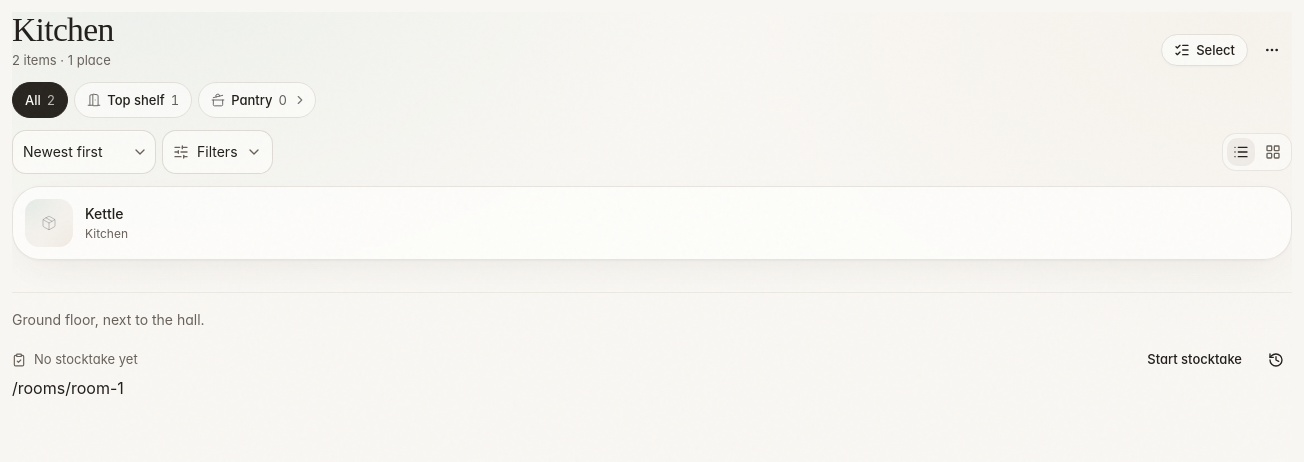
Test: RoomDetailPage › narrows the list with a place chip and offers that place's actions
The width and height of the screenshot is (1304, 462).
Click the button with aria-label "Top shelf, 1 item".
click(133, 100)  # box [74,82,192,118]
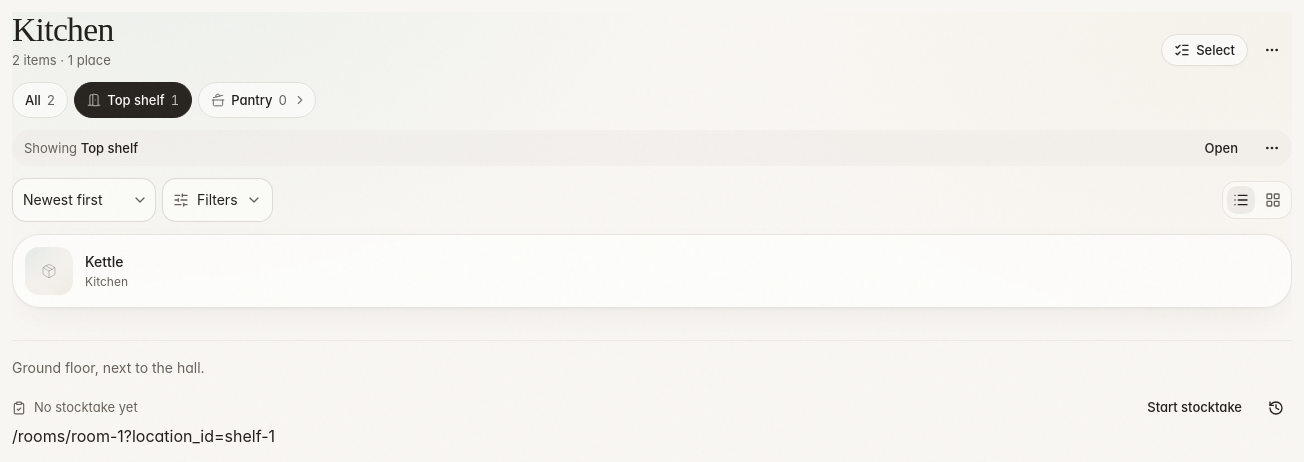
Check: the text with test id "location" reads "/rooms/room-1?location_id=shelf-1", box [12,426,275,446]
Click the button named "Options for Top shelf".
click(1272, 148)  # box [1256,132,1288,164]
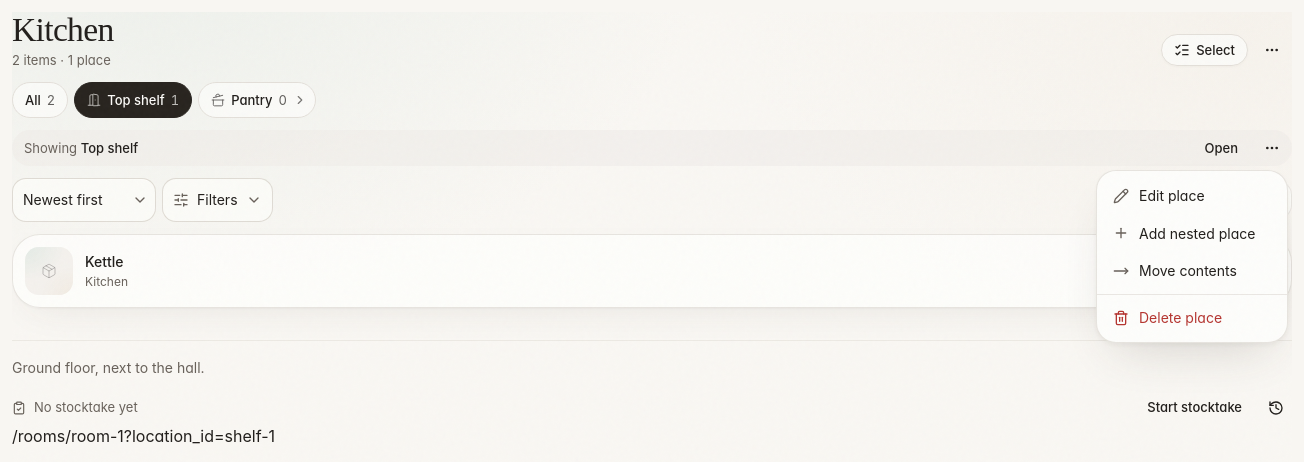
Check: the menu item "Move contents" is shown, box [1113,262,1237,279]
Check: the menu item "Delete place" is shown, box [1113,309,1222,326]
